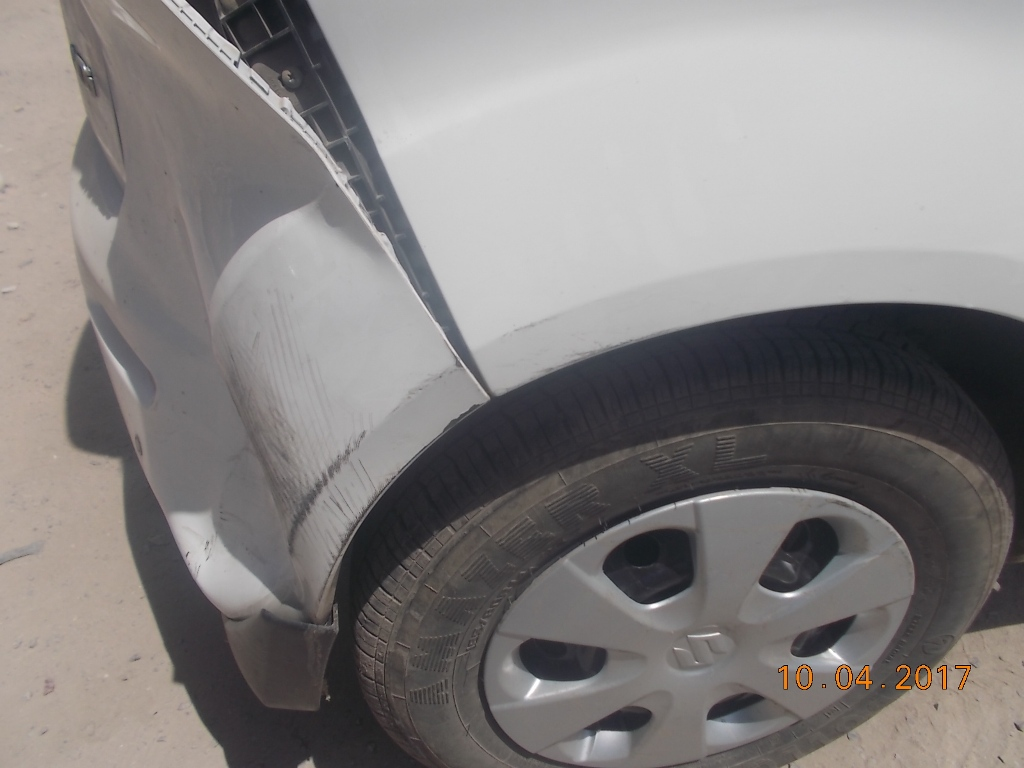Dent: (149, 334, 297, 554)
Dislocation: (205, 36, 397, 266)
Scratch_or_spot: (313, 430, 372, 477), (303, 488, 326, 507)
